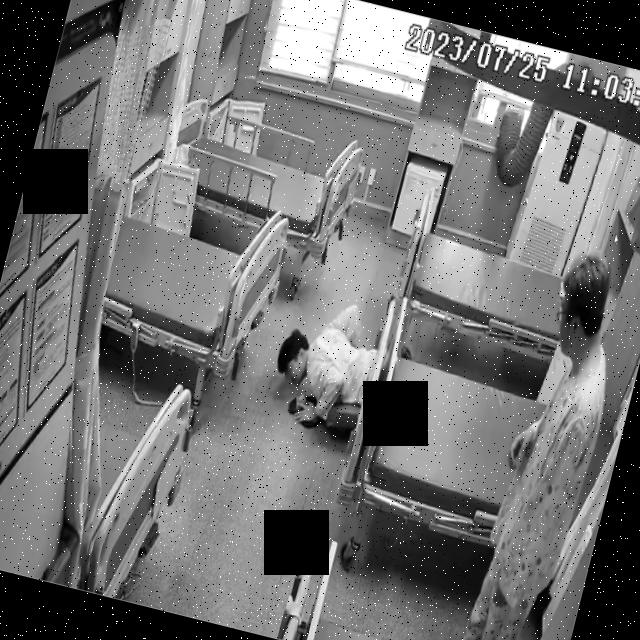bed: (332, 290, 631, 568), (388, 175, 606, 372), (96, 178, 294, 379), (172, 107, 364, 259)
fall: (263, 288, 400, 441)
patient: (453, 252, 639, 640), (261, 287, 405, 444)
